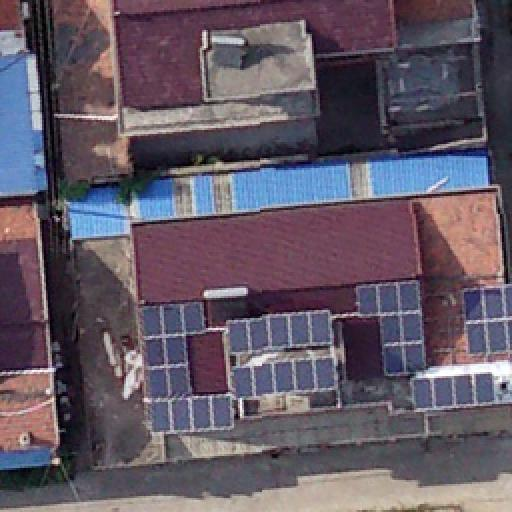solar-panel: (134, 288, 234, 453), (355, 270, 437, 380), (217, 356, 349, 395), (222, 310, 350, 350), (418, 371, 506, 418), (463, 274, 512, 357)
